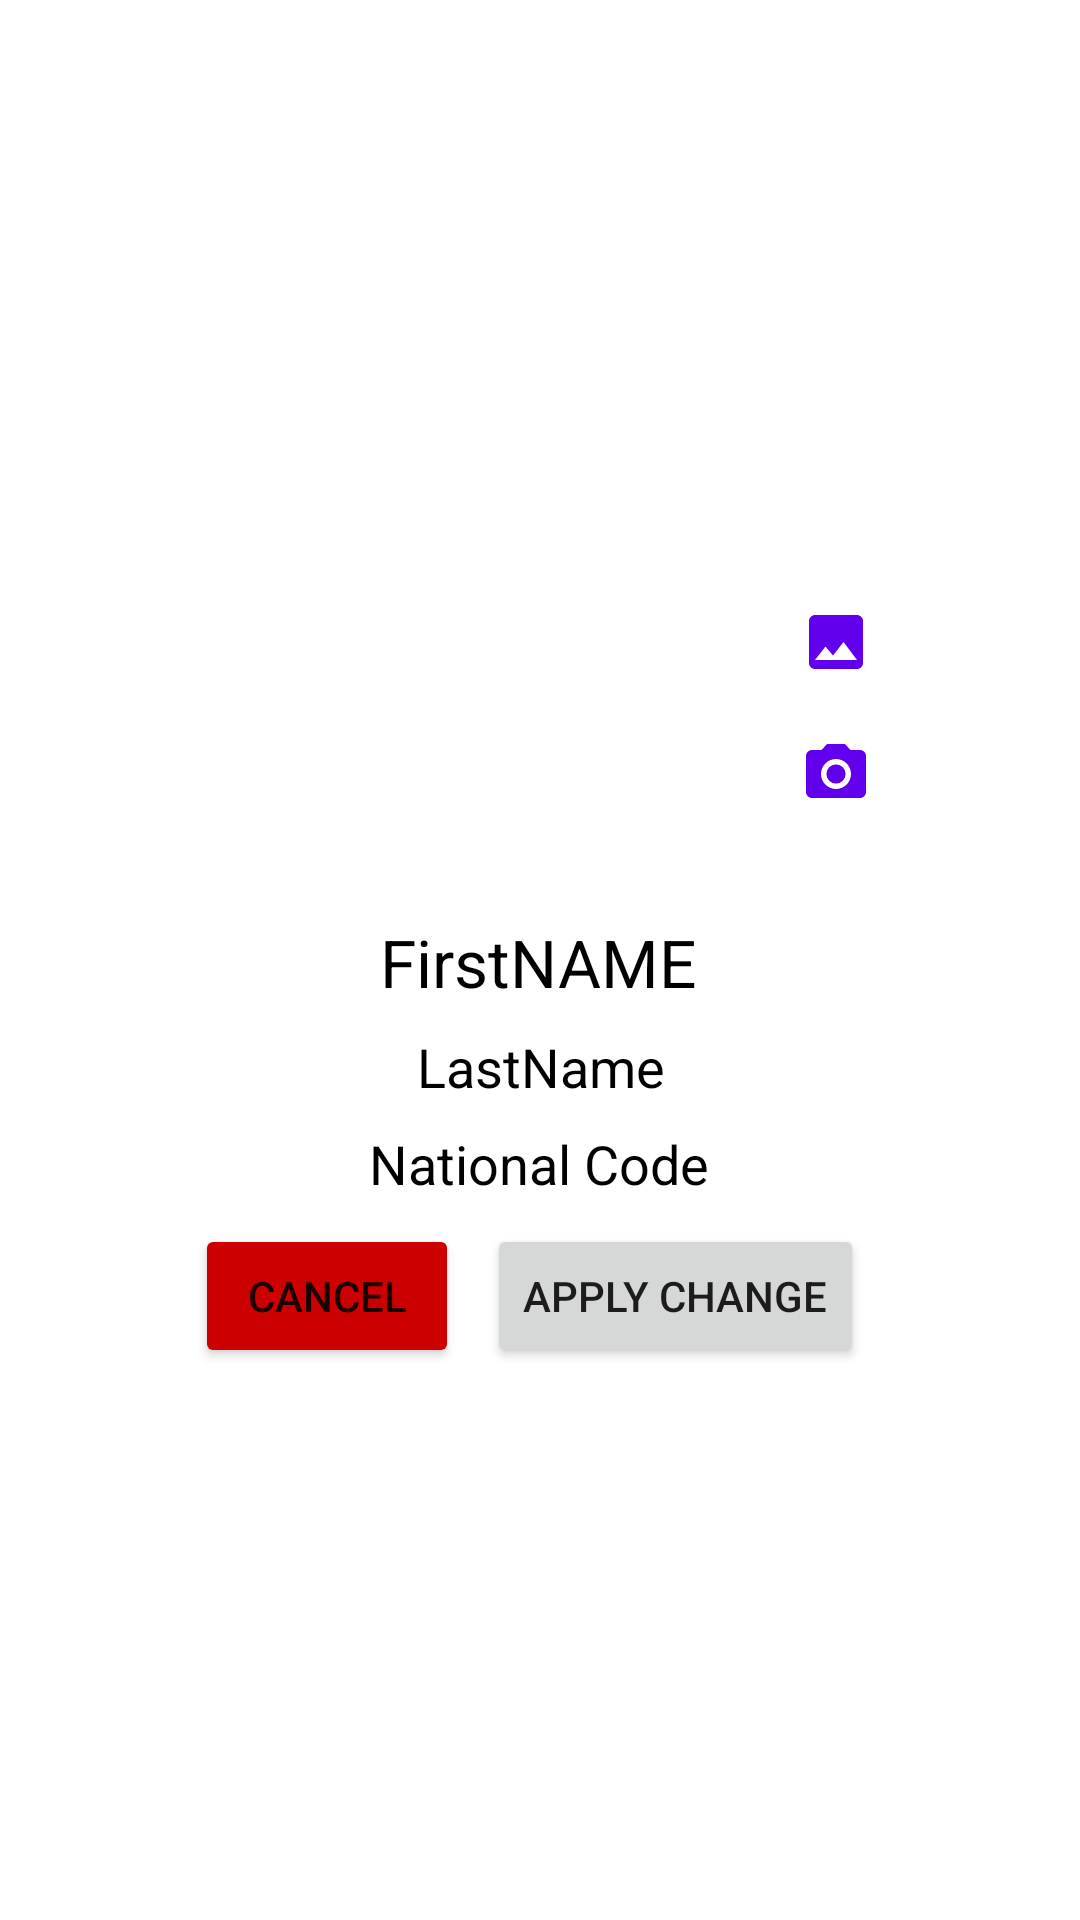

Icons on this 1080px×1920px Android screen, each with the point to tap as (x=x, y=y):
camera: (x=836, y=771)
gallery: (x=836, y=642)
